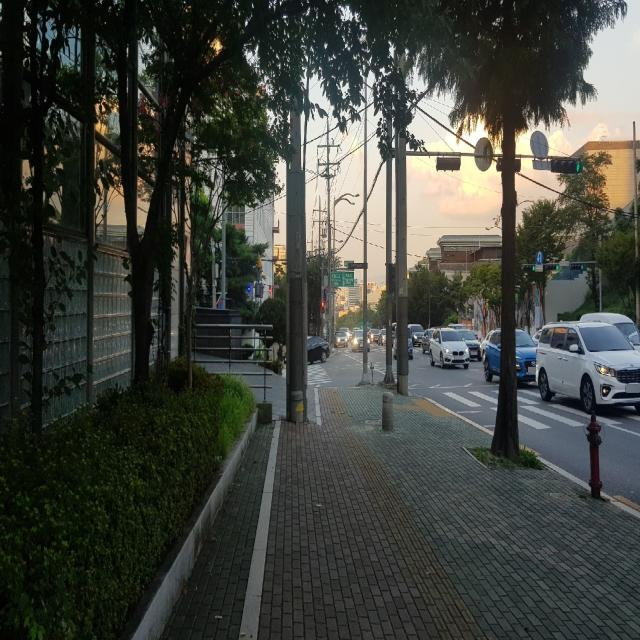횡단보도: (282, 364, 332, 387)
